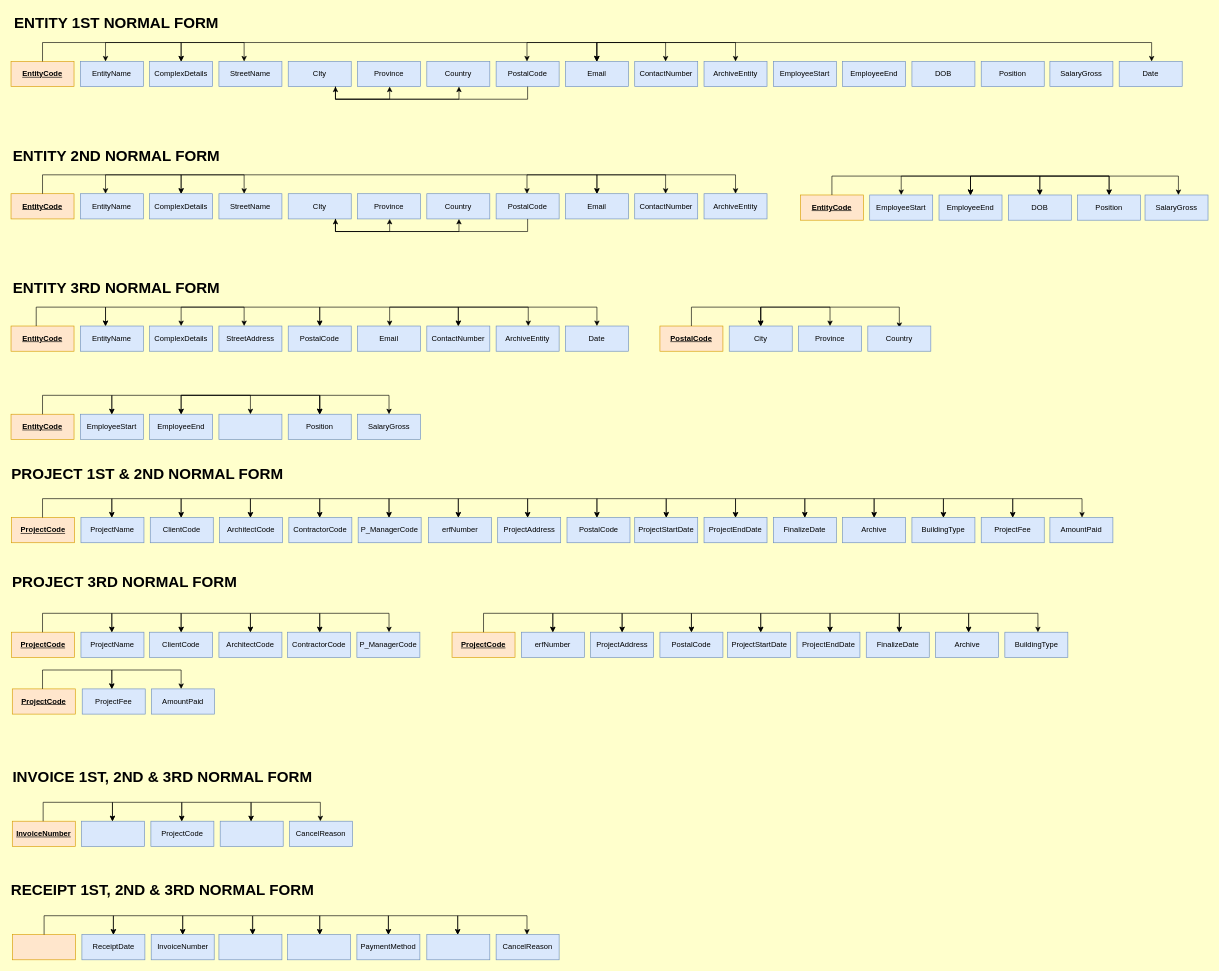
The diagram is 1219 pixels wide and 971 high, and some of its shapes have lost their labels. Here are the shapes that lost their labels. From the top down, the centre of each, then its label:
At (250,426): "DOB/ID".
At (113,833): "InvoiceDate".
At (251,833): "CancelInvoice".
At (44,947): "ReceiptNumber".
At (250,947): "ReceiptDescription".
At (319,947): "ReceiptAmount".
At (458,947): "CancelReceipt".
